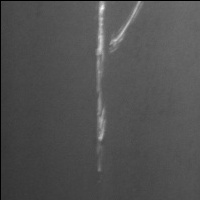scratches: (91, 1, 109, 178), (106, 1, 149, 57)
